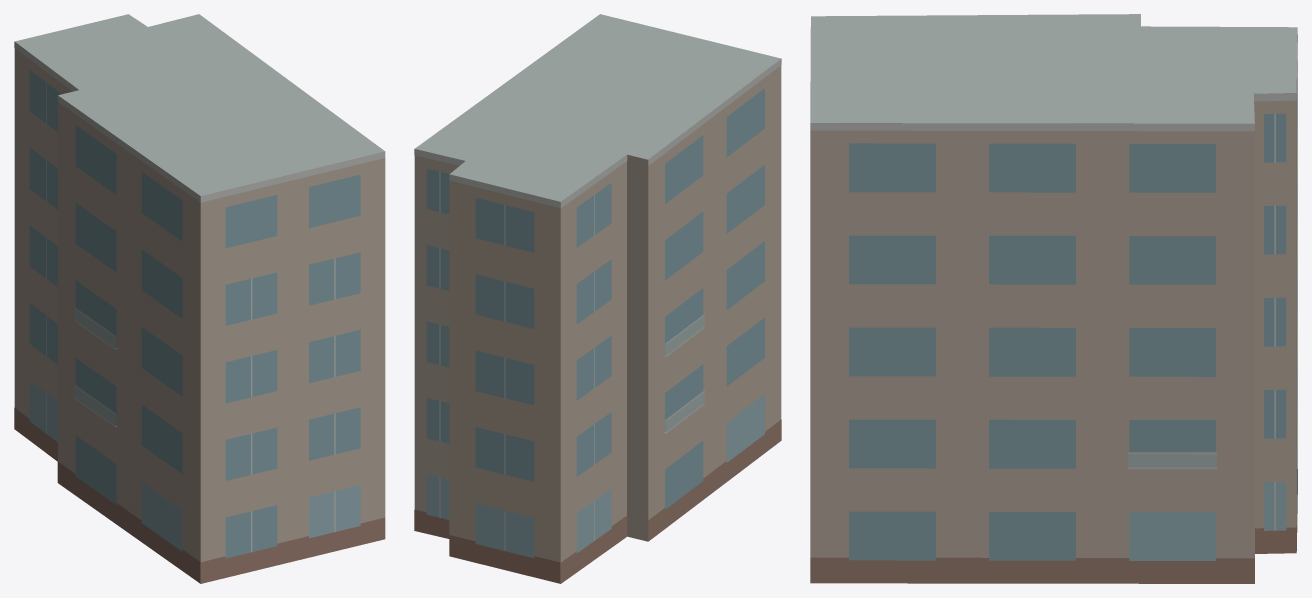
Rendered from survey-upis-32658084.glb.
3 views of the same model, side by side, from view 1: azimuth 30°, elevation 25°; view 2: azimuth 150°, elevation 25°; view 3: azimuth 270°, elevation 25° (orthographic). The views are drawn at different scales.
Parts seen in each view (by area): view 1: survey-upis-32658084.tmp; view 2: survey-upis-32658084.tmp; view 3: survey-upis-32658084.tmp.
Boxes of the visible parts, bbox=[...] form: survey-upis-32658084.tmp: bbox=[14, 14, 385, 583]; survey-upis-32658084.tmp: bbox=[414, 14, 781, 583]; survey-upis-32658084.tmp: bbox=[810, 14, 1297, 583].
Bounding box in the file's own units: 7.51 × 14.6 × 14.03.
